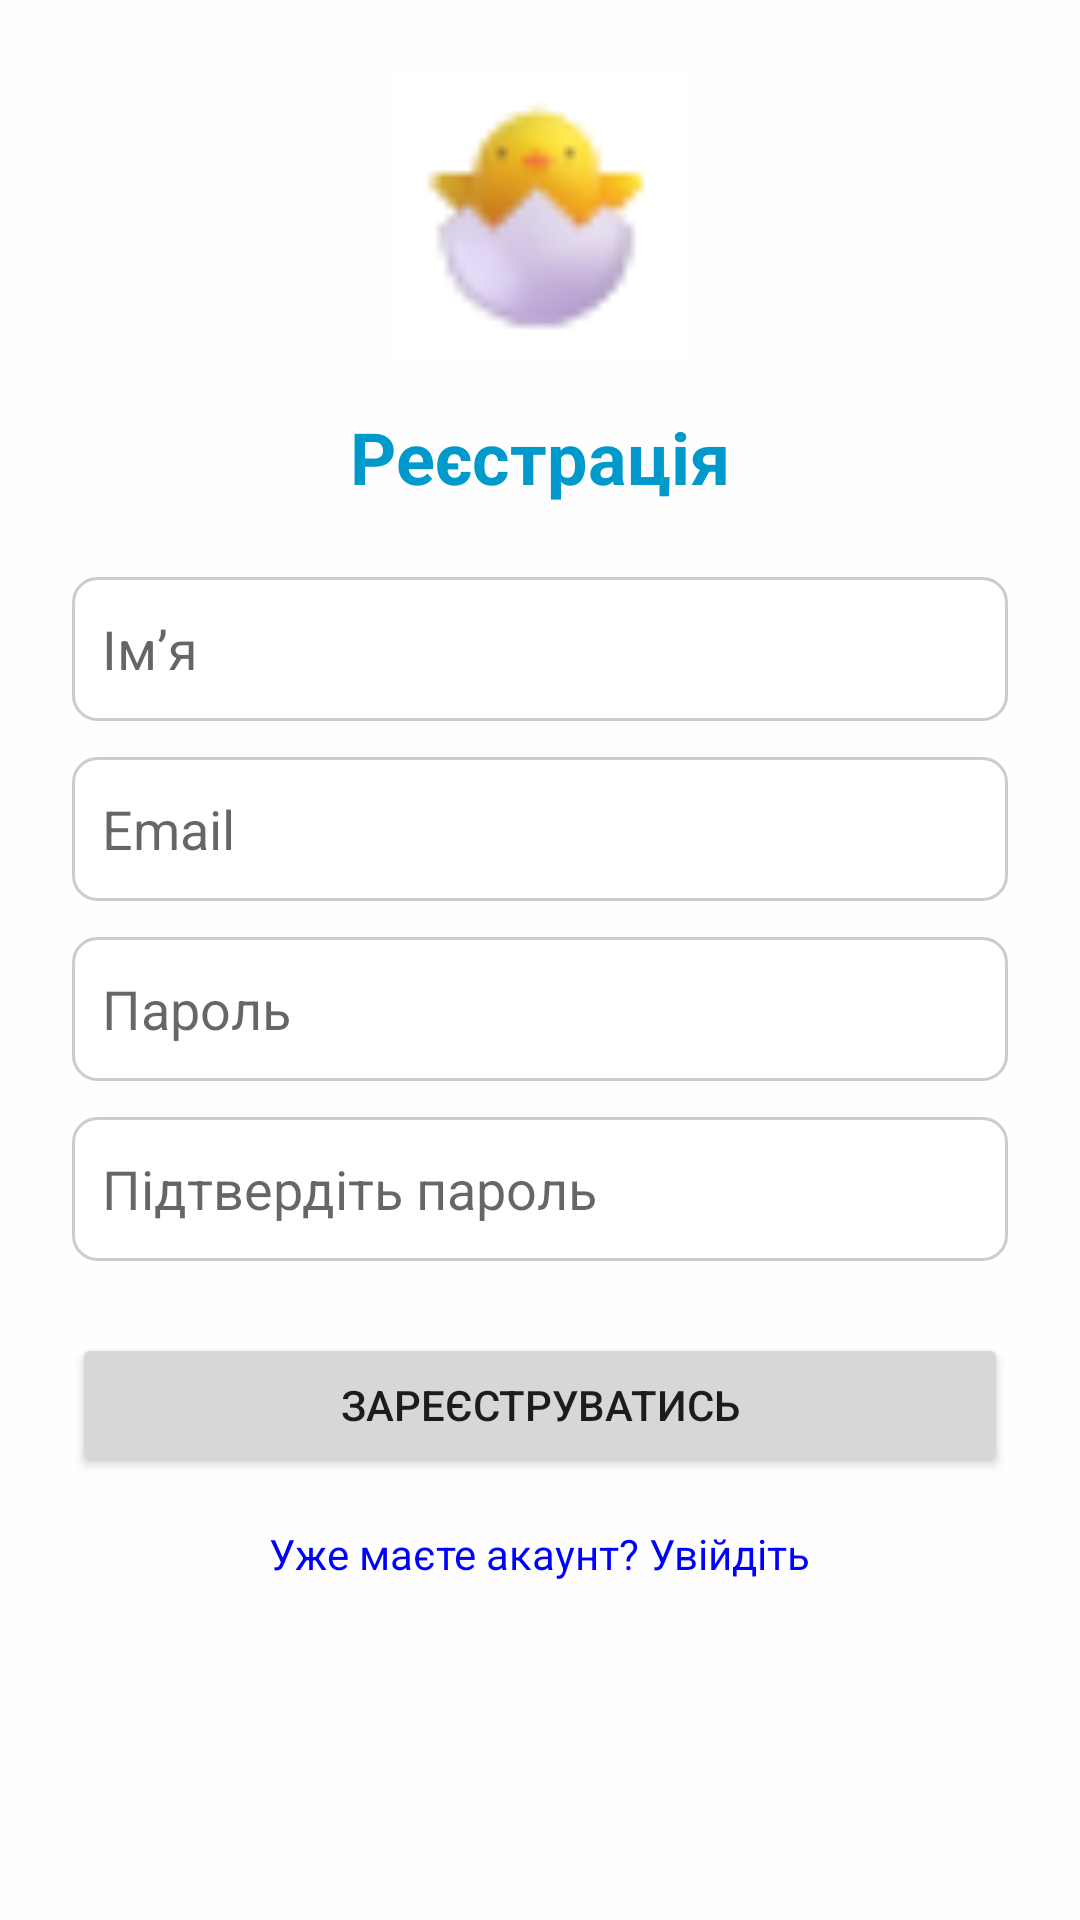

Screen size 1080 × 1920. Icon name, then its box in pixels as [x1,y1,x2,y2]:
Інкубатор: [428,105,645,328]
